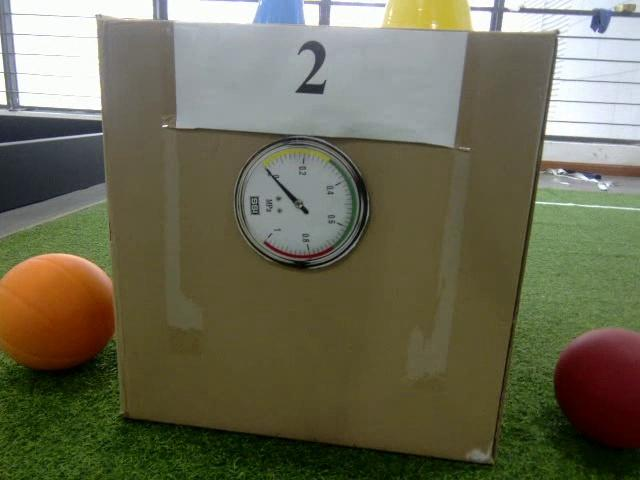2: (293, 40, 329, 94)
Dashboard: (234, 136, 369, 272)
blue_barrel: (251, 1, 307, 25)
orange_ball: (0, 253, 116, 366)
red_ball: (555, 326, 640, 455)
ssi: (250, 196, 259, 215)
yellow_barrel: (373, 2, 481, 34)
